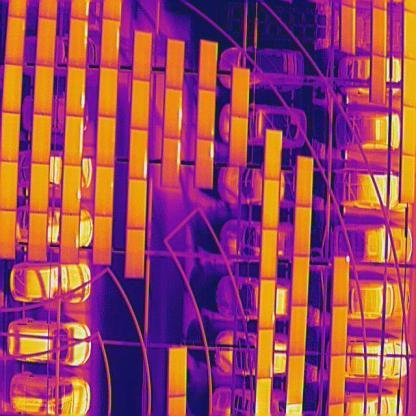Diode: (64, 116, 86, 166), (100, 18, 122, 68), (68, 18, 88, 69), (129, 128, 149, 178), (67, 66, 86, 117), (163, 137, 181, 188), (196, 139, 214, 190), (164, 89, 182, 138), (258, 329, 274, 378)
Hotspot: (60, 214, 80, 265), (64, 166, 83, 214), (96, 166, 114, 216), (332, 257, 350, 306), (198, 89, 215, 140), (260, 280, 276, 329)
Normal: (124, 229, 146, 280), (128, 80, 150, 130), (4, 16, 26, 65), (31, 113, 52, 164), (0, 112, 21, 162), (34, 64, 54, 116), (98, 68, 119, 117), (30, 163, 50, 213), (127, 179, 147, 229), (133, 32, 153, 82), (263, 178, 282, 229), (94, 215, 113, 266), (4, 65, 24, 113), (28, 214, 48, 262), (36, 18, 56, 66), (264, 130, 283, 180), (295, 156, 314, 206), (0, 162, 19, 212), (286, 356, 306, 403), (330, 306, 349, 355), (232, 68, 250, 119), (290, 304, 308, 355), (166, 39, 184, 90), (230, 116, 247, 169), (97, 118, 115, 166), (200, 42, 218, 90), (168, 348, 186, 395), (330, 355, 347, 404), (340, 3, 356, 55), (262, 229, 278, 280), (294, 254, 310, 305), (400, 154, 416, 204), (296, 206, 312, 256), (0, 210, 16, 260), (372, 5, 386, 58), (372, 53, 386, 104), (257, 378, 272, 416)
